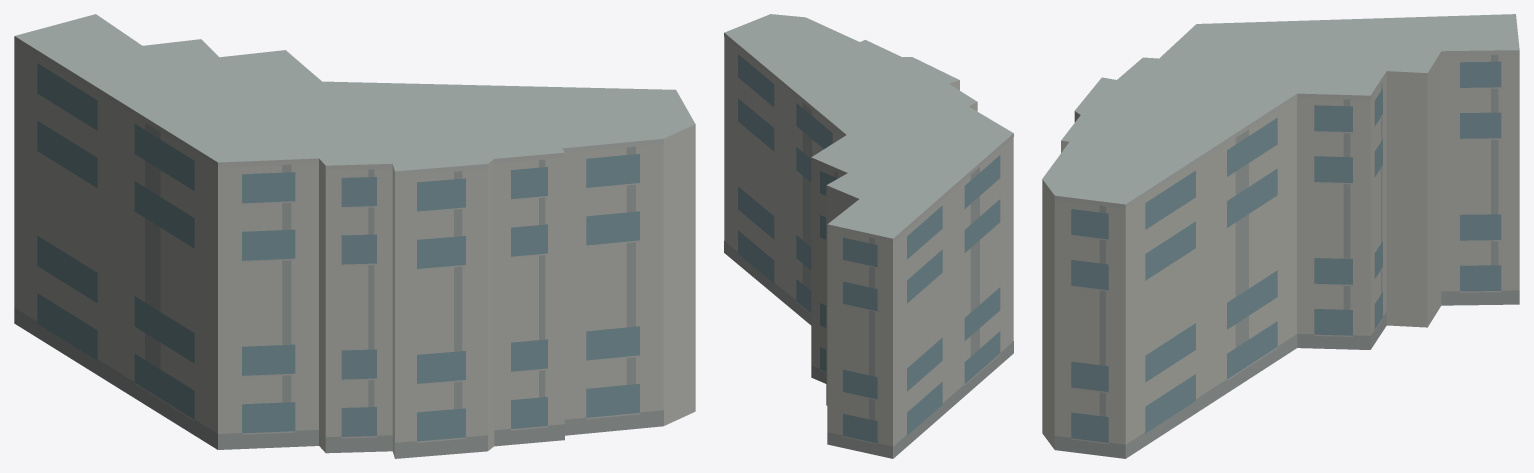
File: survey-upis-32839518.glb
3 renders of one model, left to right at view 1: azimuth 30°, elevation 25°; view 2: azimuth 150°, elevation 25°; view 3: azimuth 270°, elevation 25°, orthographic. The views are drawn at different scales.
Visible parts, largest first — view 1: survey-upis-32839518.tmp; view 2: survey-upis-32839518.tmp; view 3: survey-upis-32839518.tmp.
Boxes of the visible parts, left/top/right/bottom form: survey-upis-32839518.tmp: left=14, top=14, right=695, bottom=458; survey-upis-32839518.tmp: left=724, top=14, right=1013, bottom=458; survey-upis-32839518.tmp: left=1042, top=14, right=1519, bottom=458.
Bounding box in the file's own units: 21.85 × 13.6 × 23.14.
